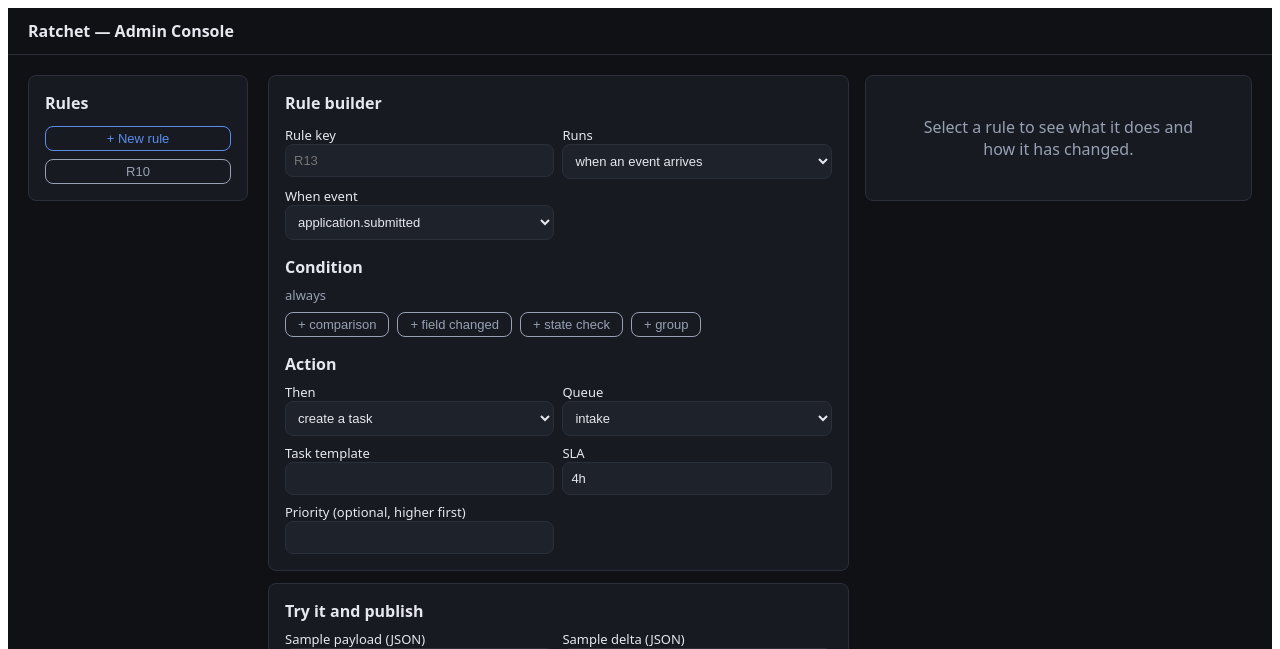
Test case: selecting a rule shows its version history with a structural diff
This screenshot has width=1280, height=649.
Click the button "R10". click: point(138, 172)
box: 45,159 -> 231,184
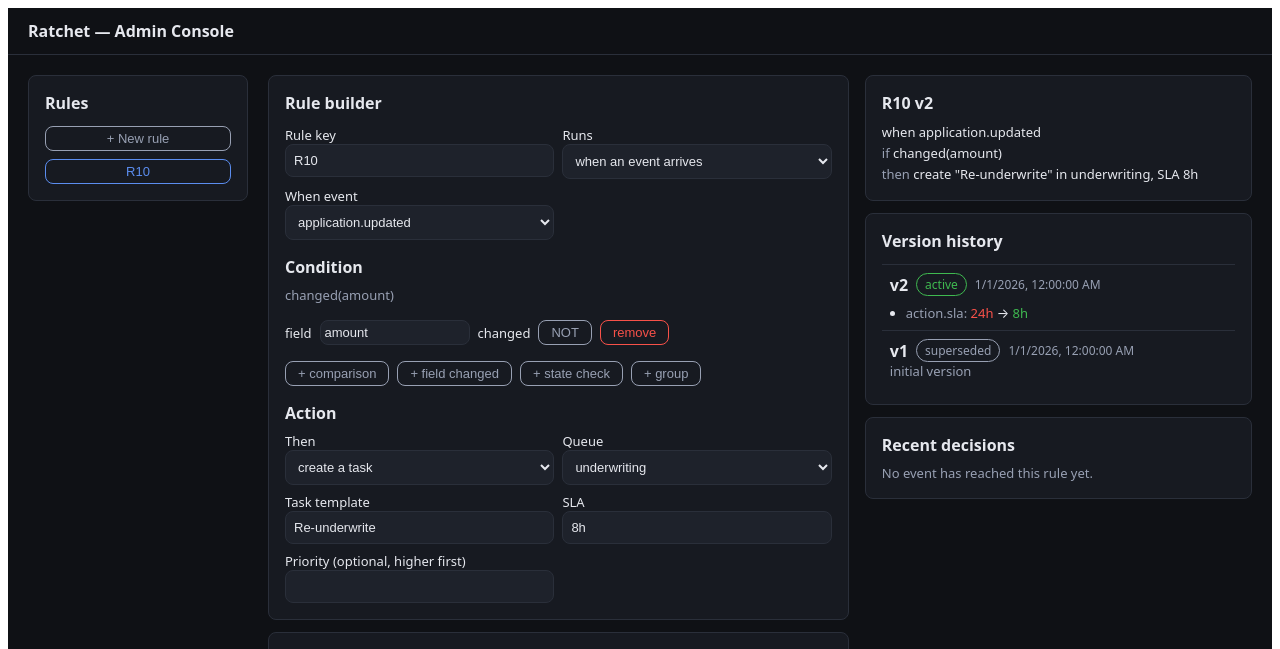
Now the text "v2" is shown, box 890,274 -> 908,296
Now the text "v1" is shown, box 890,340 -> 908,362
Now the text "active" is shown, box 916,273 -> 967,296
